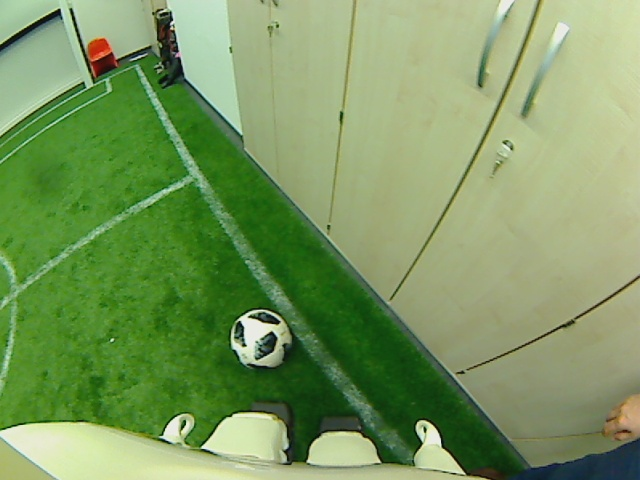ball: (228, 309, 292, 368)
